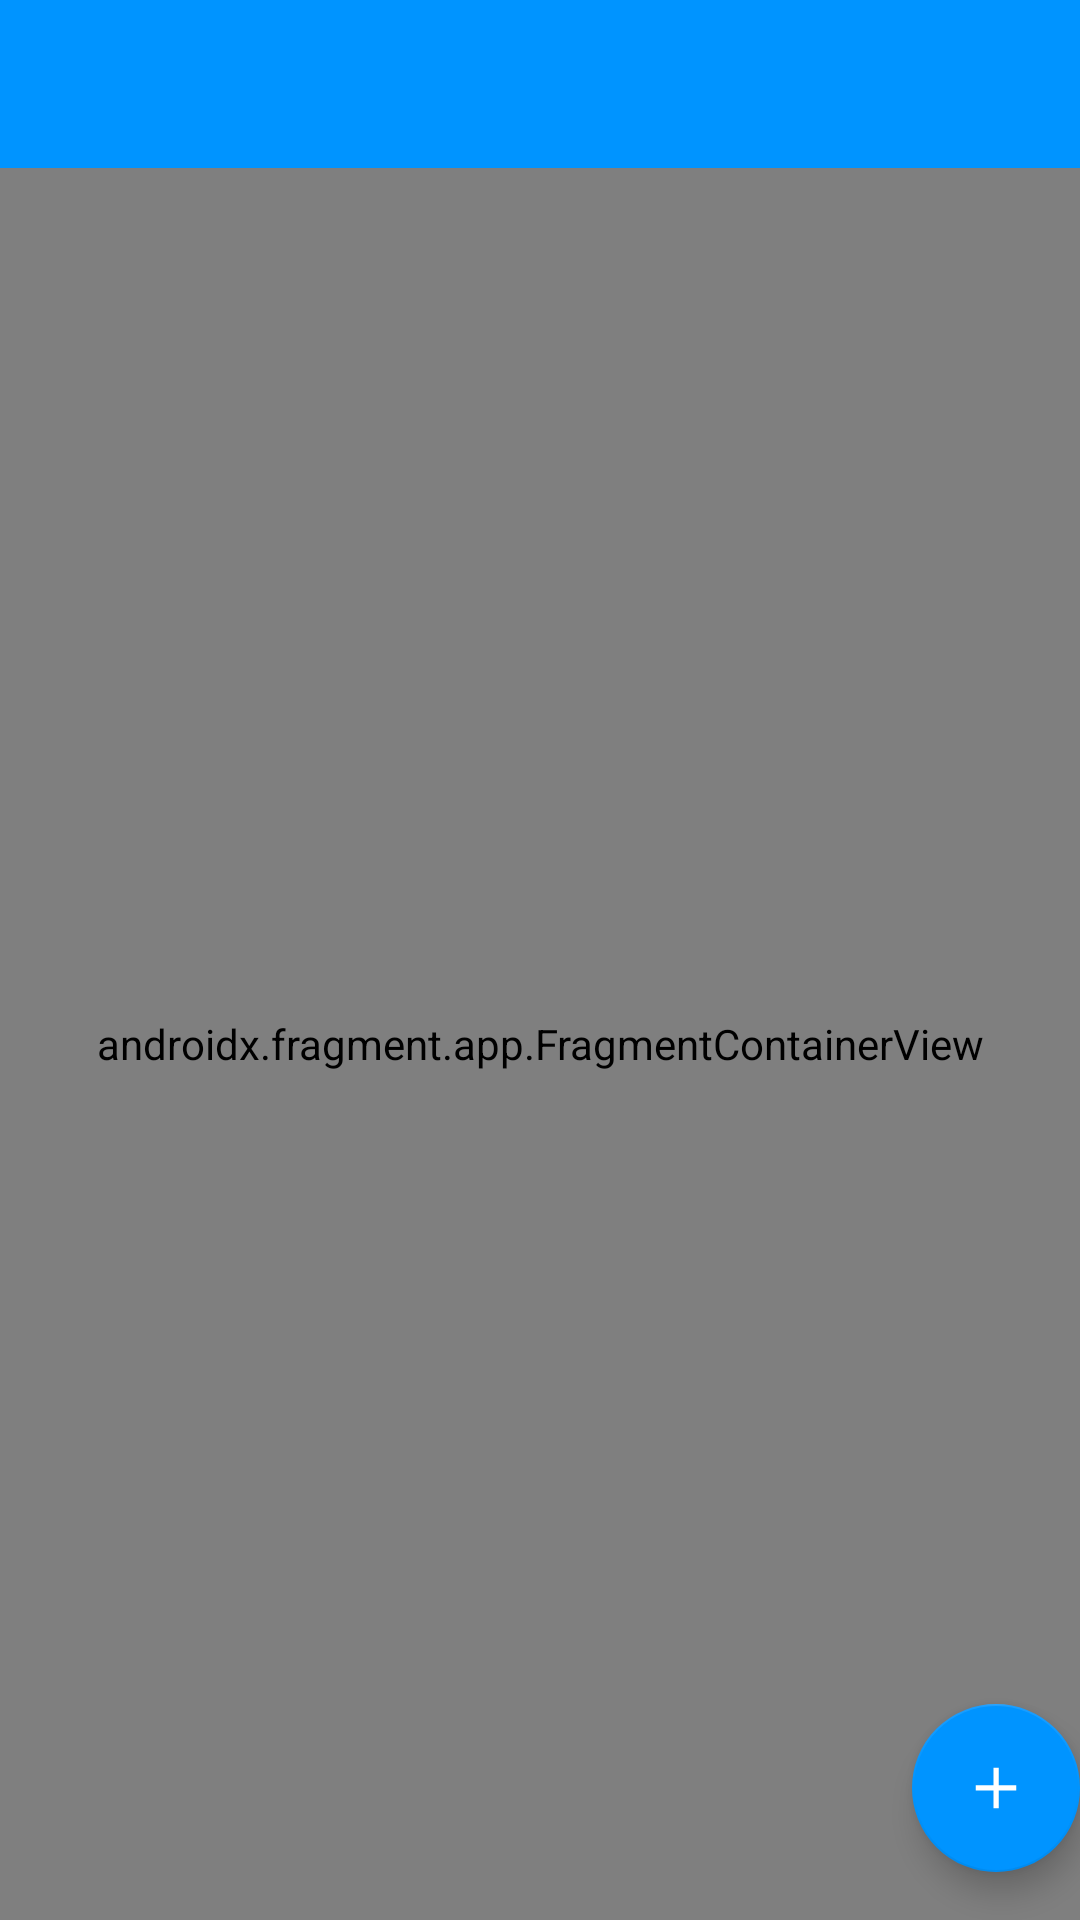

Named icons in this screenshot (1080x1920) and their centers, (x=x, y=y):
Nuevo: (x=996, y=1788)
